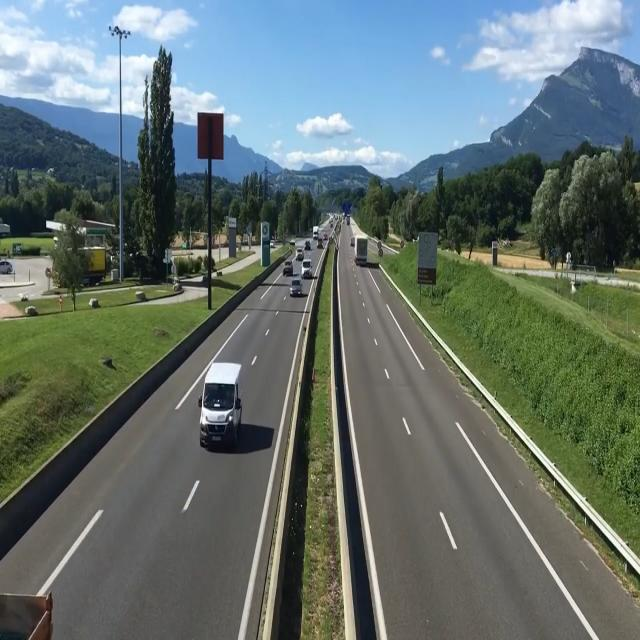car: (198, 359, 244, 456), (288, 278, 302, 301)
truck: (352, 232, 370, 268)
